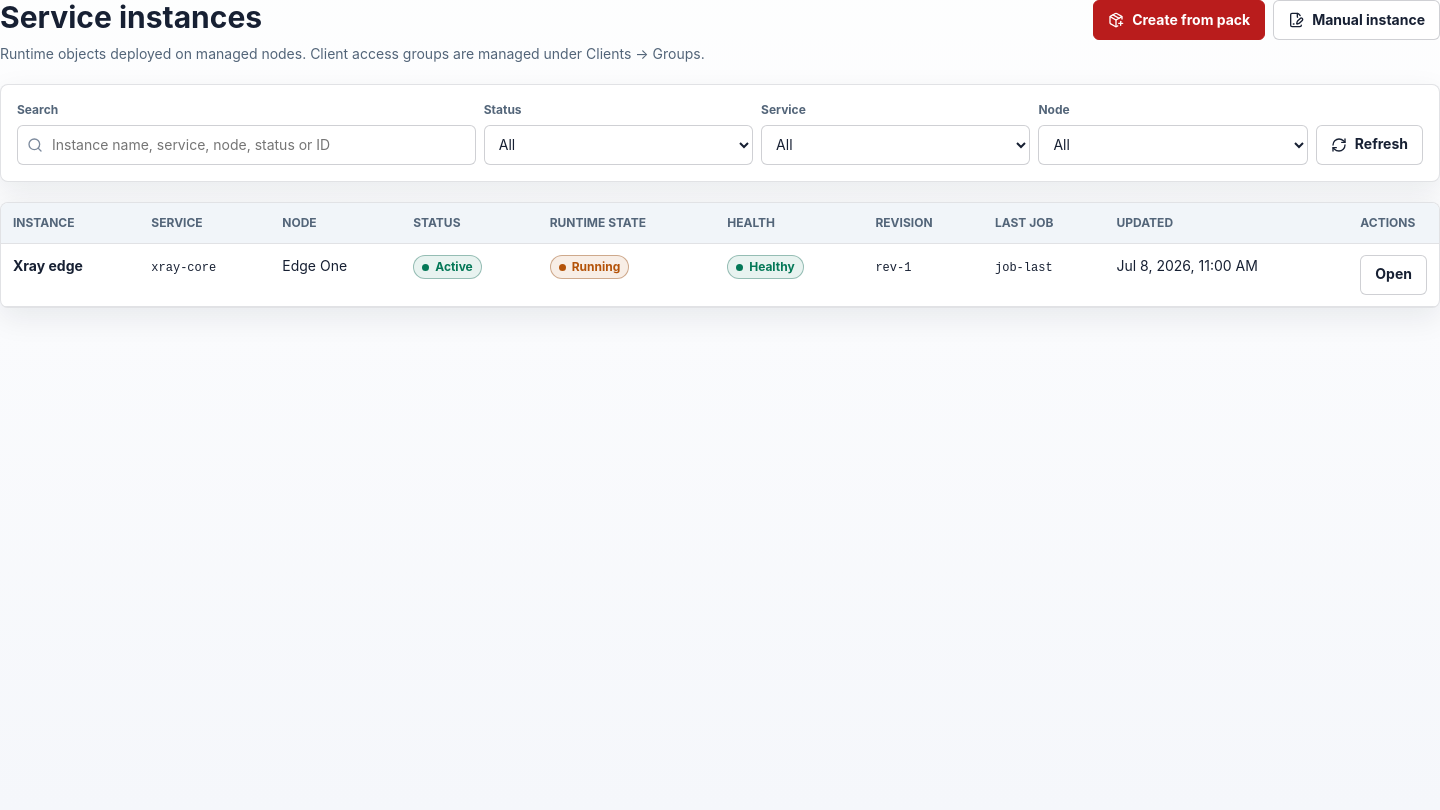
Scenario: InstancesPage › links access-group management to the canonical Clients Groups workspace
Expected: the text "Xray edge" is shown, top-left (13, 256), bottom-right (83, 274)
Click the button "Open": (1394, 274) top-left (1360, 254), bottom-right (1427, 294)
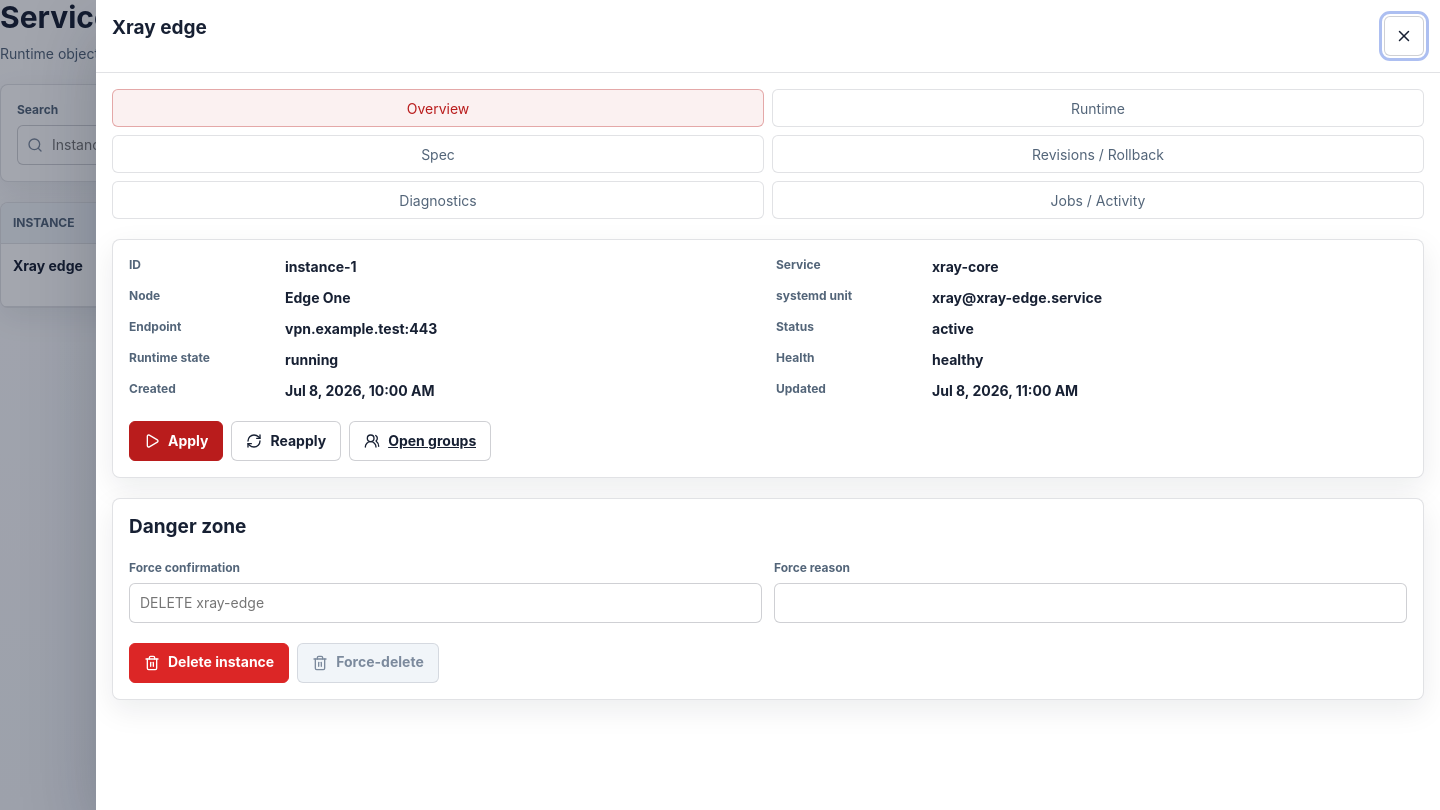
Expected: the heading "Xray edge" is shown, top-left (112, 16), bottom-right (207, 40)
